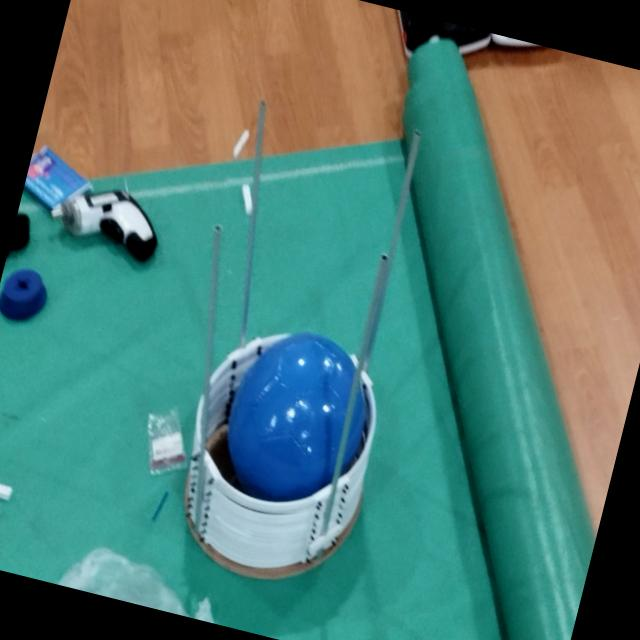blue_ball: (207, 315, 383, 520)
